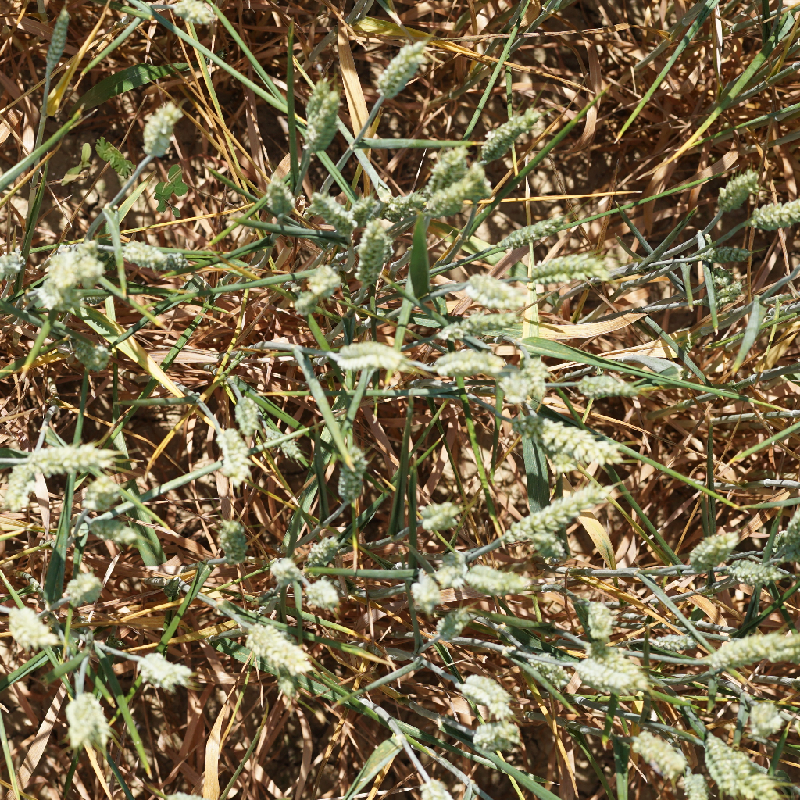spikelet: (483, 478, 618, 547), (514, 412, 632, 471), (235, 616, 323, 678), (696, 625, 797, 671), (373, 31, 432, 106), (29, 239, 95, 306), (524, 239, 603, 291), (475, 103, 542, 164), (325, 337, 411, 382), (63, 690, 119, 758), (420, 169, 493, 221), (585, 638, 662, 685), (460, 270, 530, 321), (297, 72, 335, 159), (429, 340, 507, 382), (130, 647, 196, 696), (453, 663, 520, 711), (70, 464, 133, 515), (452, 556, 530, 597), (692, 725, 742, 787), (3, 602, 61, 653), (627, 726, 687, 775), (25, 442, 125, 471), (428, 310, 520, 341), (139, 97, 185, 159), (332, 437, 371, 510), (564, 653, 631, 695), (495, 209, 565, 249), (422, 143, 480, 191), (689, 520, 742, 572), (211, 422, 260, 478), (78, 508, 142, 547), (565, 371, 650, 400), (353, 227, 394, 287), (728, 546, 788, 587), (714, 163, 762, 214), (312, 183, 360, 231), (117, 235, 173, 276), (738, 196, 800, 232), (747, 688, 785, 746), (42, 3, 74, 71), (261, 421, 307, 468), (212, 513, 251, 568), (413, 496, 465, 537), (521, 648, 572, 688), (574, 593, 618, 639), (1, 453, 34, 512), (374, 189, 430, 223), (735, 764, 787, 800), (59, 568, 108, 606), (467, 715, 527, 746), (514, 353, 553, 400), (263, 174, 298, 226), (413, 568, 450, 617), (301, 262, 345, 301), (157, 1, 219, 28), (297, 575, 340, 612), (692, 279, 745, 309), (263, 551, 303, 589), (68, 336, 112, 370), (695, 242, 752, 267), (493, 369, 532, 405), (430, 606, 470, 640), (228, 393, 262, 431), (650, 631, 699, 655), (302, 527, 335, 559), (154, 249, 195, 274), (416, 775, 457, 800), (347, 192, 373, 231), (699, 265, 737, 289), (1, 247, 23, 287), (287, 289, 319, 316), (271, 674, 300, 699), (161, 576, 180, 599)
weed: (147, 160, 197, 220), (91, 128, 140, 186), (61, 143, 92, 186)
